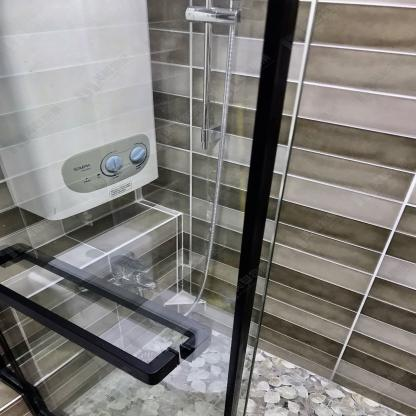Water Cubicle: (0, 0, 412, 416)
